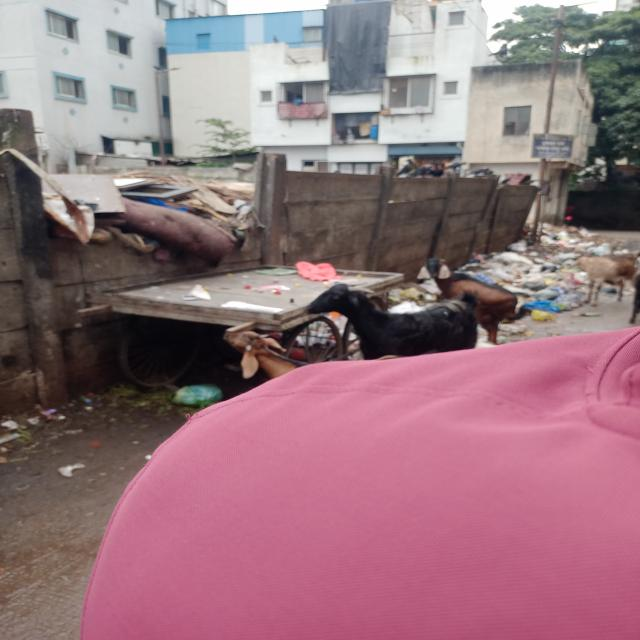garbage: (472, 230, 606, 314)
